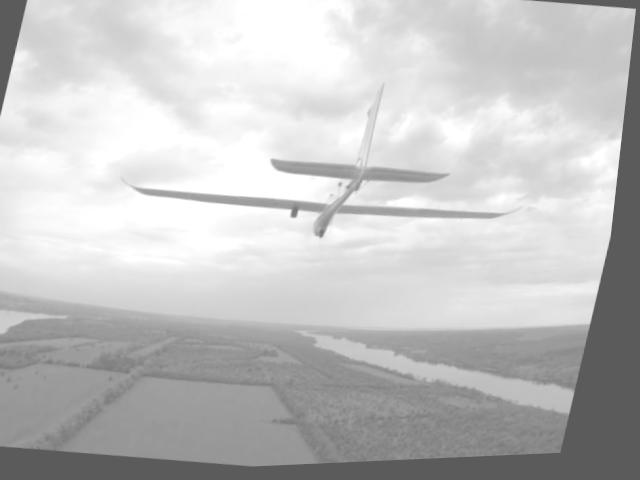hedef: (116, 35, 549, 272)
